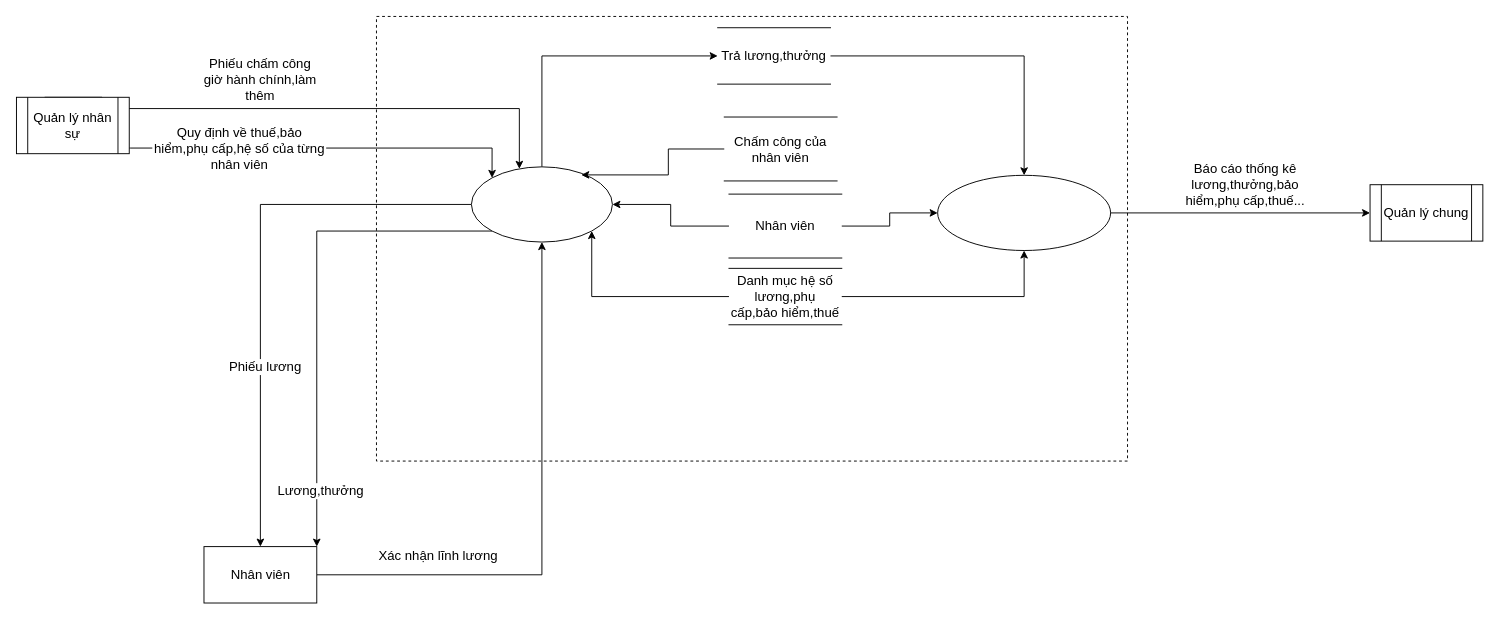
The diagram is 1499 pixels wide and 619 high, and some of its shapes have lost their labels. Here are the shapes that lost their labels. From the top down, the centre of each, then its label:
At [541,204]: "Lập phiếu lương cụ thể".
At [1024,212]: "Lập báo cáo thống kê về lương,thưởng".
